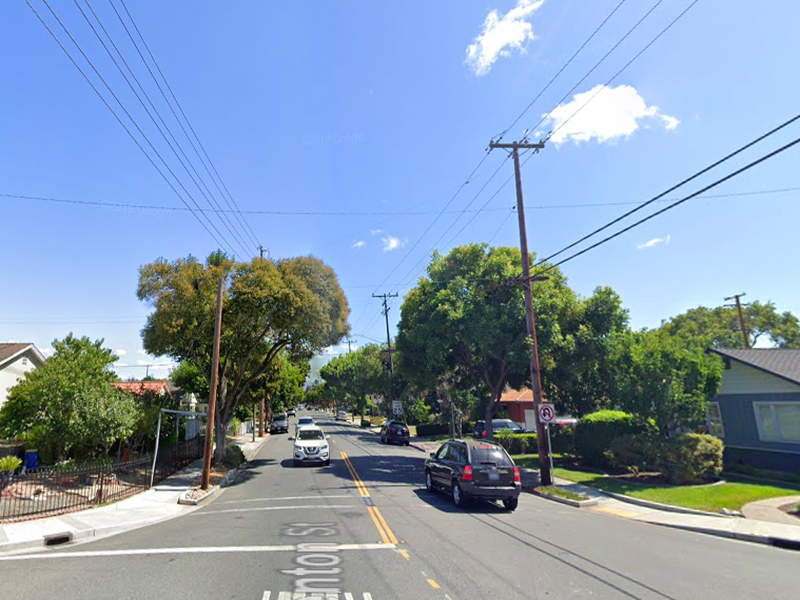tree: (135, 246, 354, 465), (393, 241, 587, 440)
utility_pole: (480, 123, 554, 180), (366, 284, 401, 314)
